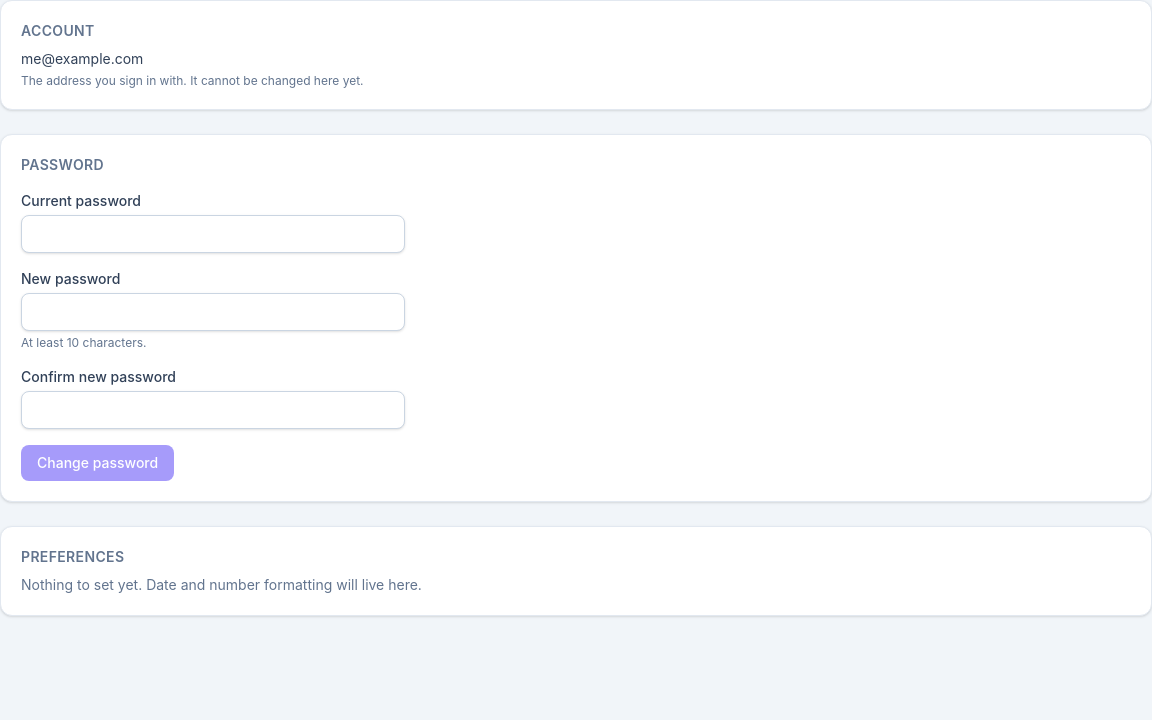
Test: change password form › claims no success when the other devices could not be signed out
The image size is (1152, 720).
Type "the old one" into the password field labelled "Current password".
click(213, 234); type("the old one")  # box [21, 215, 405, 253]
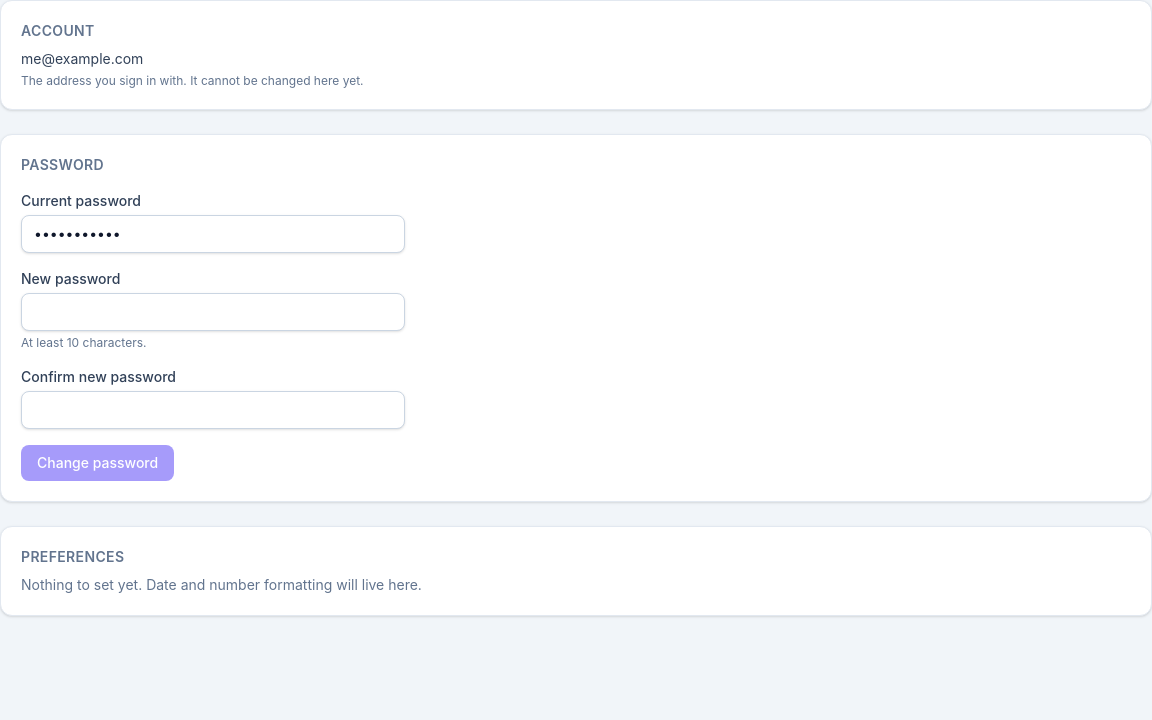
Type "a long enough new one" into the password field labelled "New password".
click(213, 312); type("a long enough new one")  # box [21, 293, 405, 331]
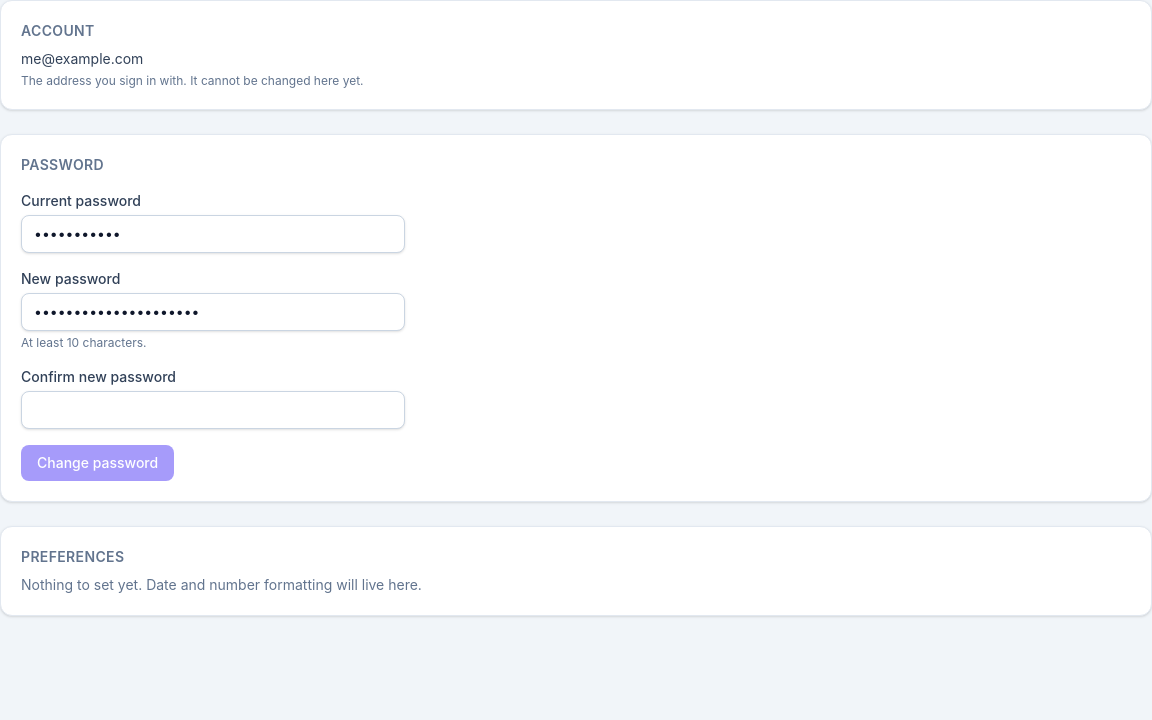
Type "a long enough new one" into the password field labelled "Confirm new password".
click(213, 410); type("a long enough new one")  # box [21, 391, 405, 429]
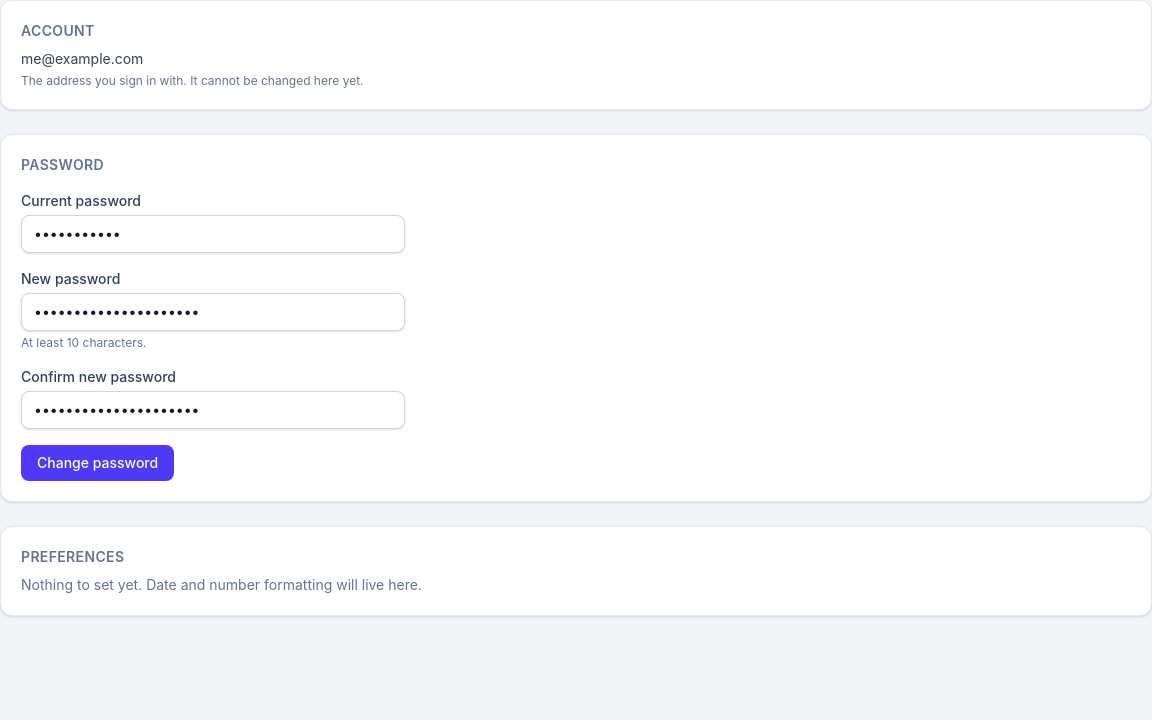
Click the button "Change password".
click(98, 463)  # box [21, 445, 174, 481]
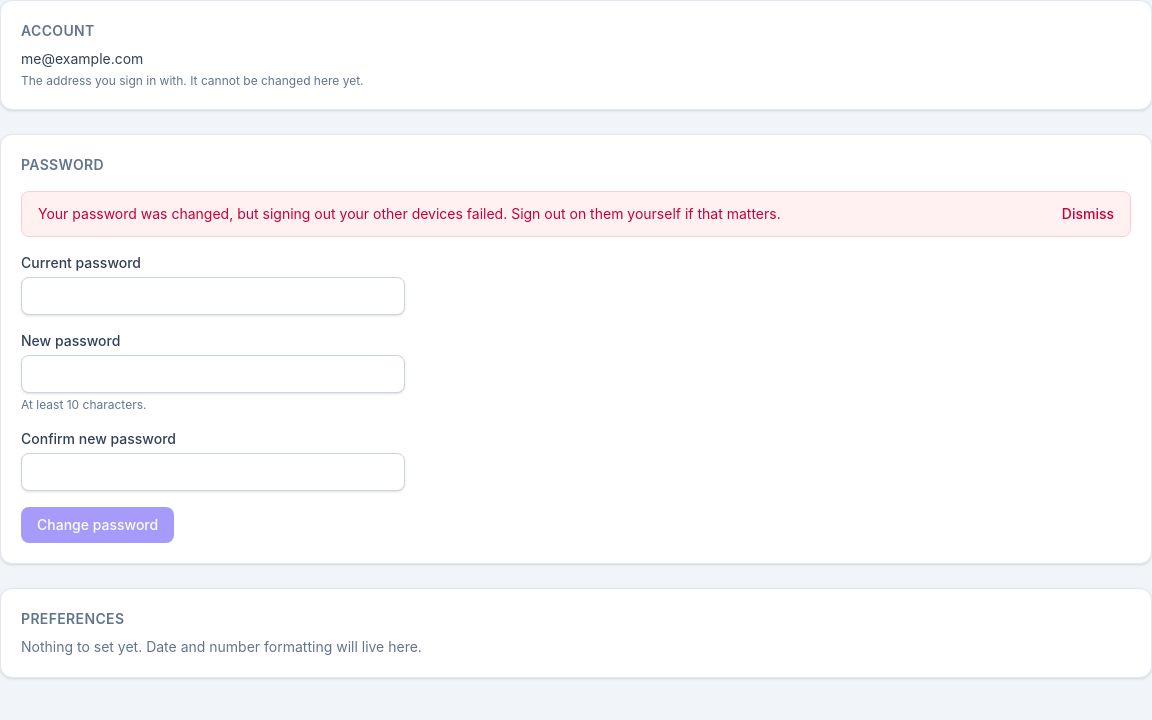
Expected: the message shows "password was changed", [38, 205, 781, 222]
